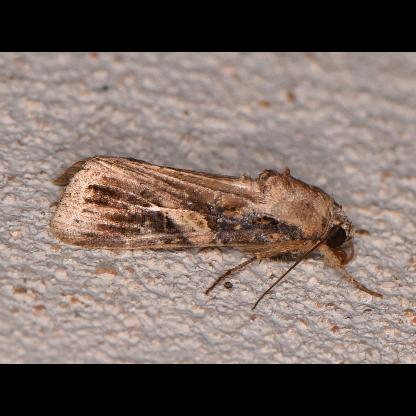Fall Armyworm Moth: (47, 152, 386, 314)
